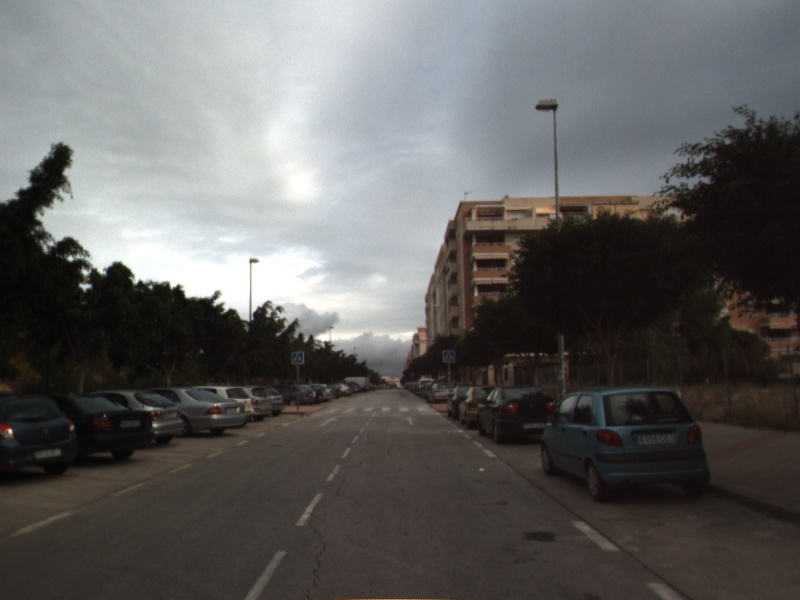STRAIGHT: (320, 415, 343, 429), (400, 414, 420, 427)
